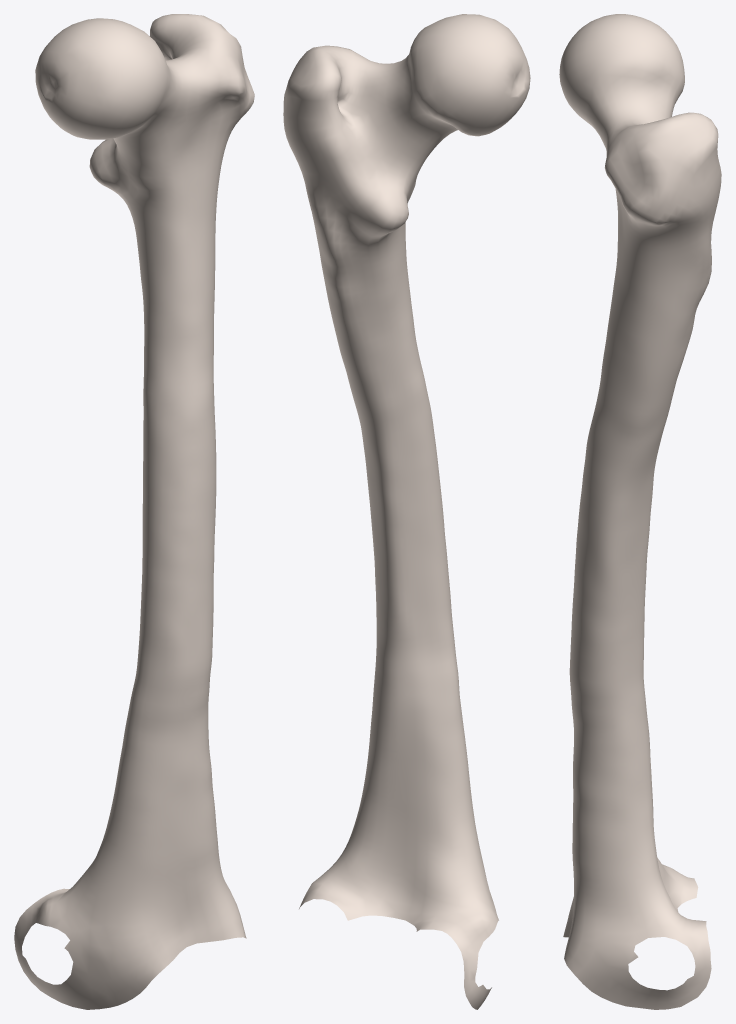
Rendered from frau2-1028.glb.
3 renders of one model, left to right at view 1: azimuth 30°, elevation 25°; view 2: azimuth 150°, elevation 25°; view 3: azimuth 270°, elevation 25°, orthographic. The views are drawn at different scales.
Visible parts, largest first — view 1: VH_F_femur_L; view 2: VH_F_femur_L; view 3: VH_F_femur_L.
Boxes of the visible parts, x1,y1,x2,y2 form: VH_F_femur_L: [14, 14, 254, 1009]; VH_F_femur_L: [283, 14, 530, 1009]; VH_F_femur_L: [559, 14, 721, 1009].
Bounding box in the file's own units: 0.0981 × 0.4208 × 0.0651.
